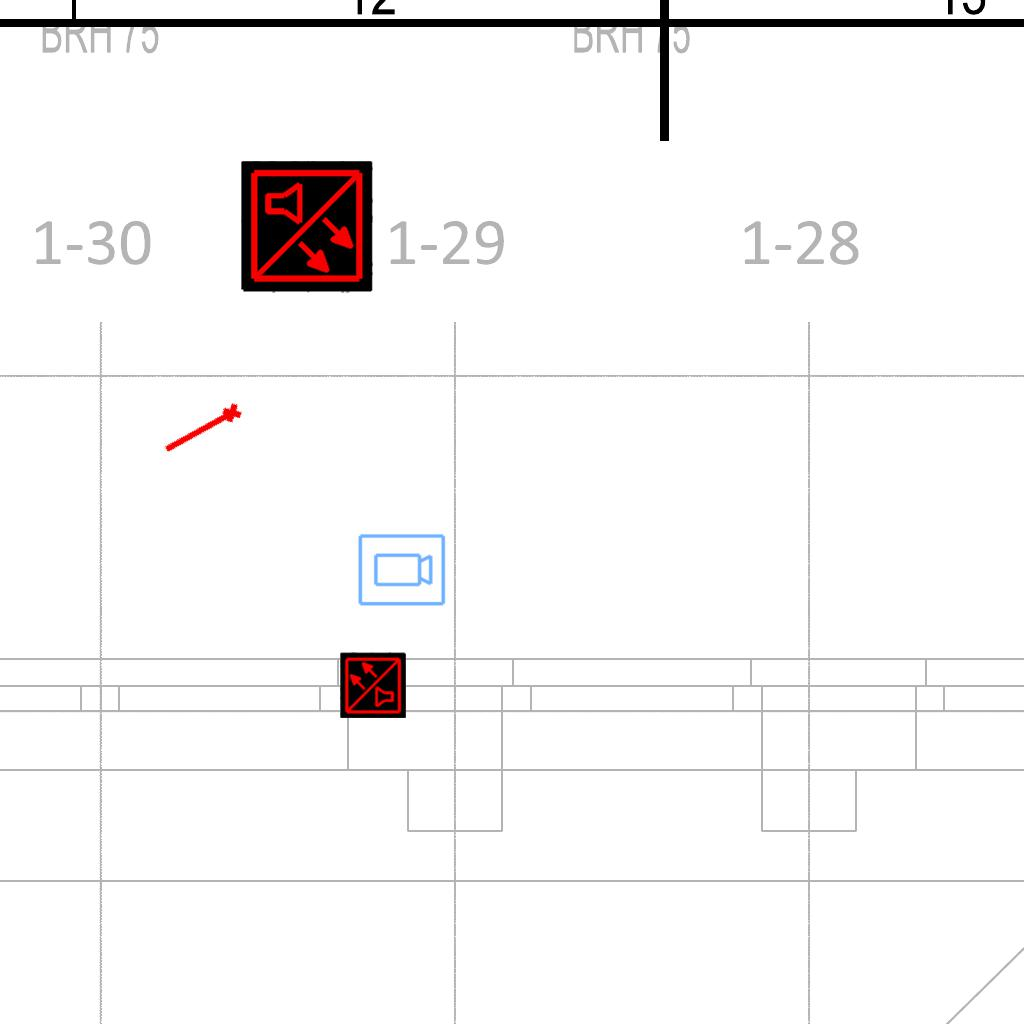ASR_Ansaugoeffnung: (158, 399, 248, 462)
KFO_Kamera_mit_Festobjektiv: (356, 532, 447, 609)
OKW_Multisensormelder_(Kombination_optischer_Rauch-Kahlenmonoxid_Waerme-Melder): (241, 161, 373, 293), (340, 652, 406, 718)
